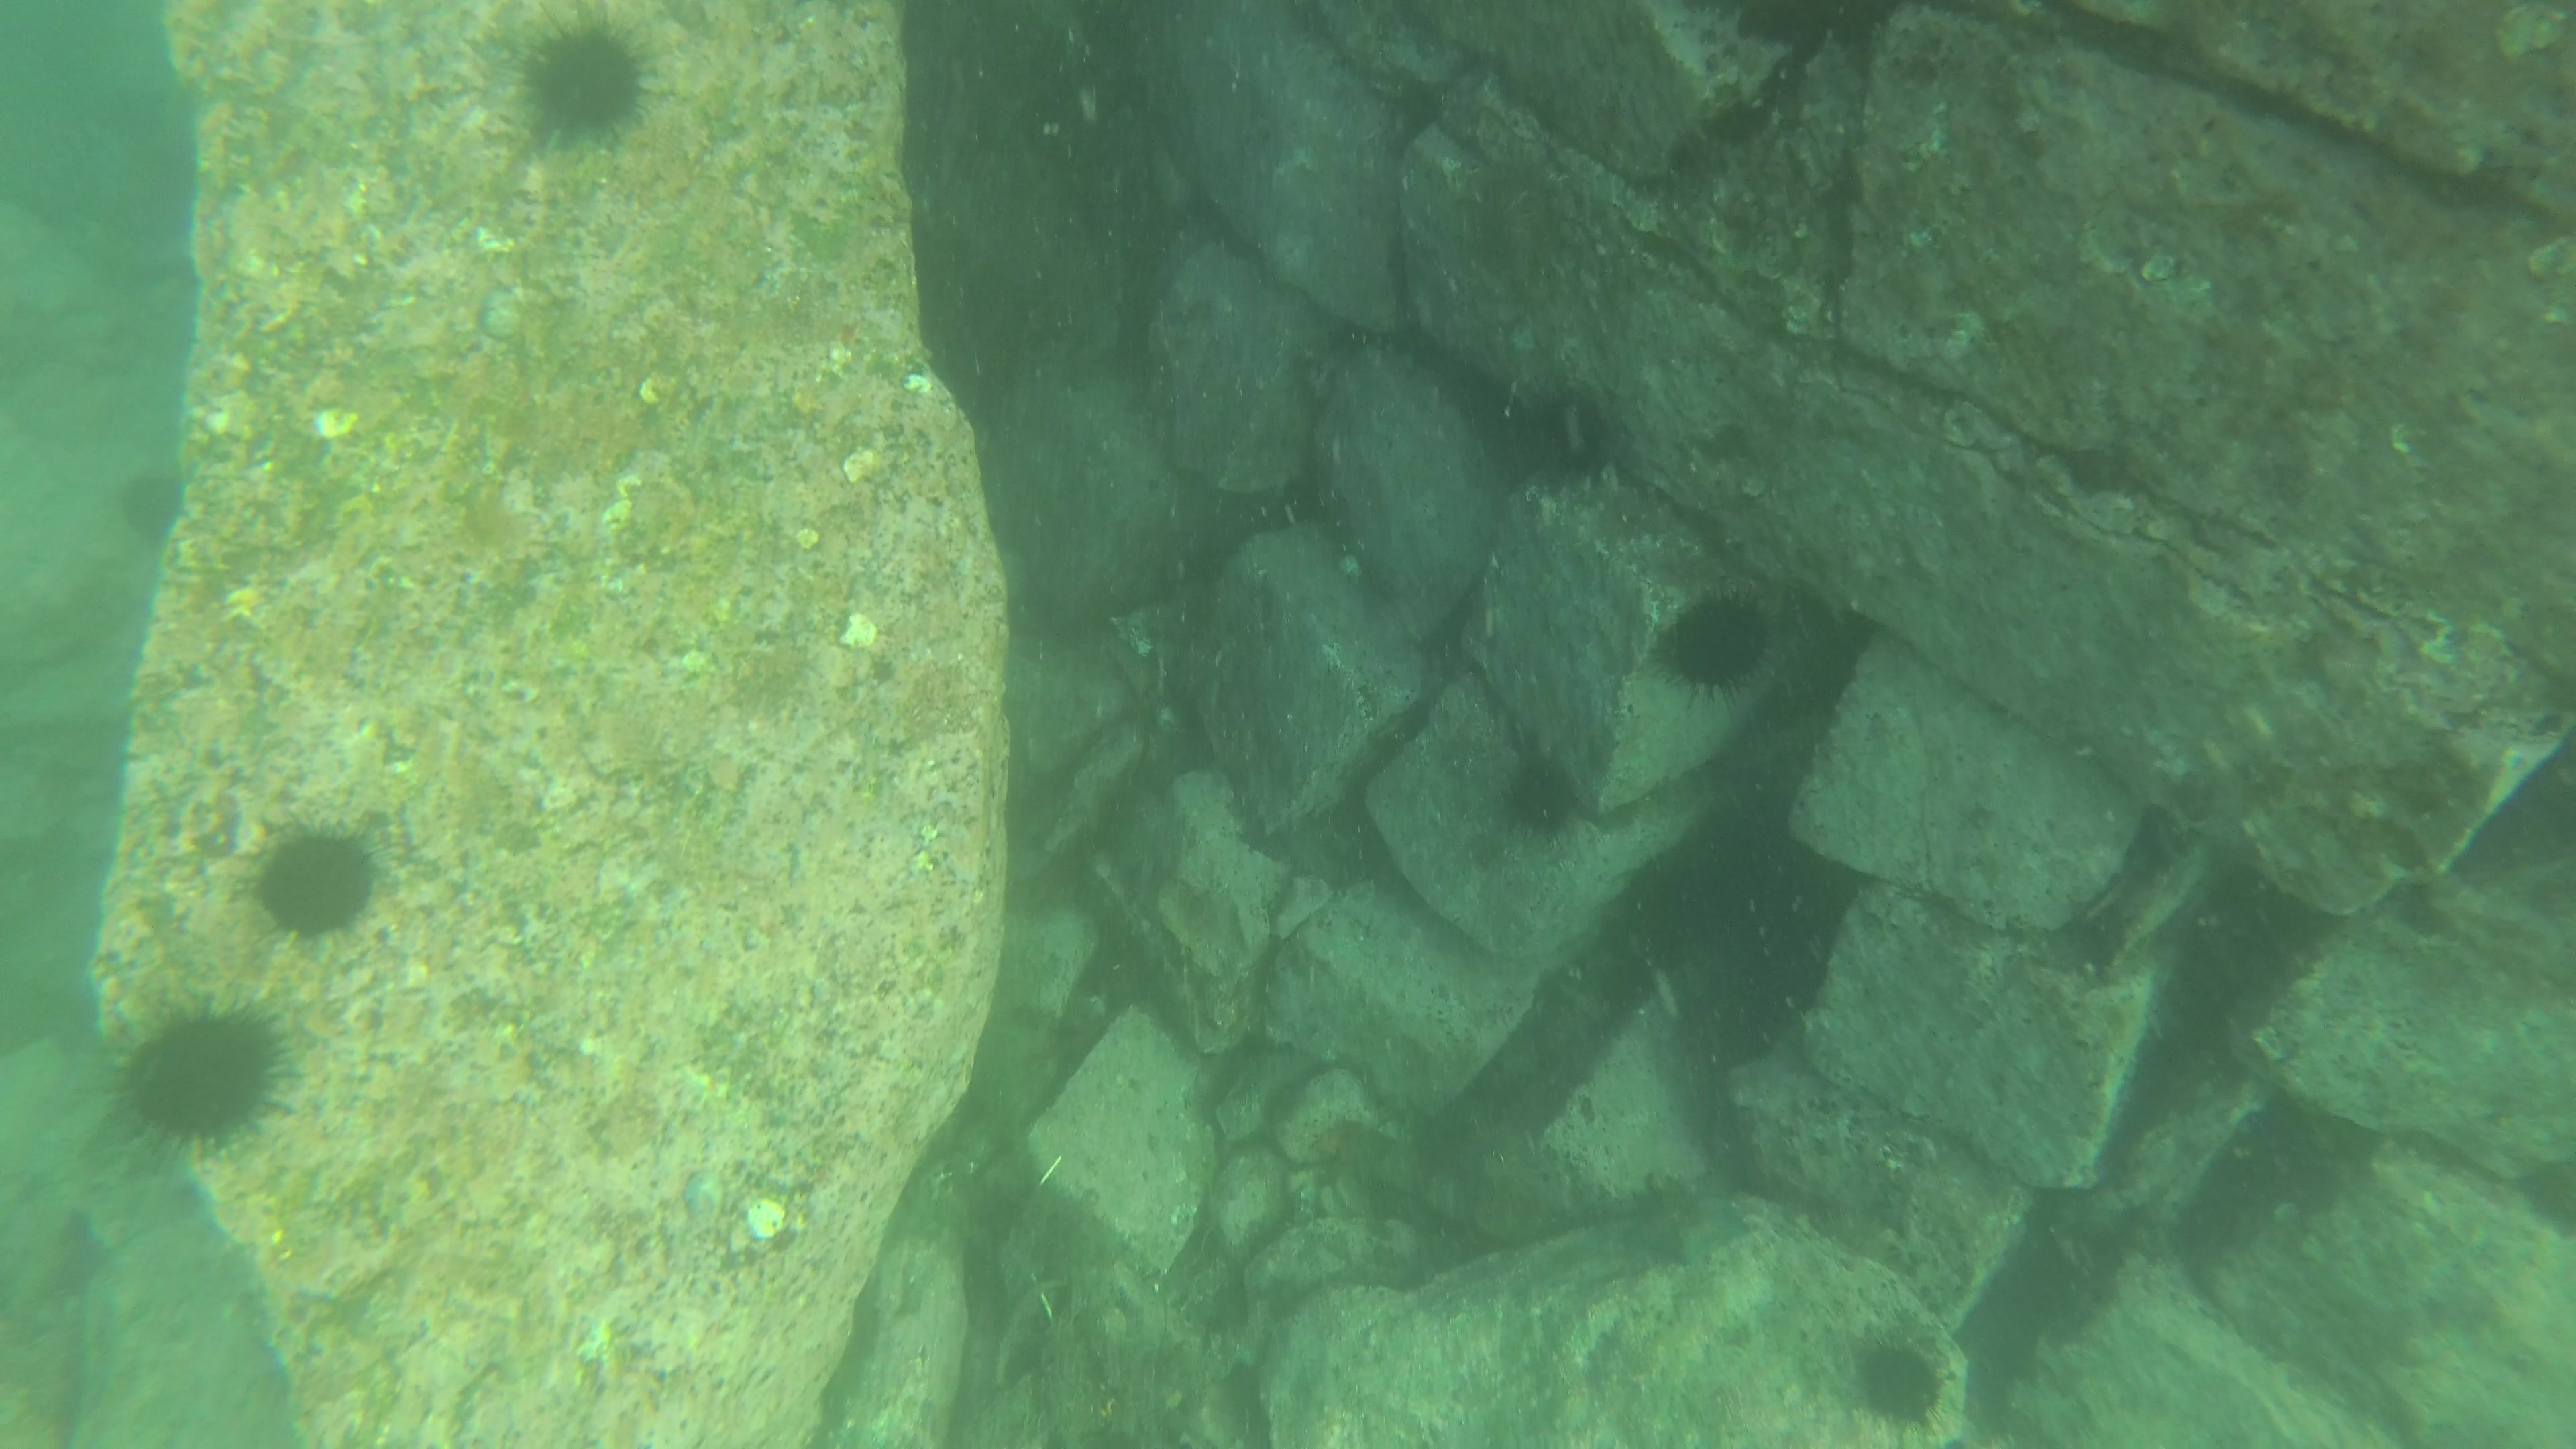echinus: (110, 993, 297, 1155), (508, 9, 665, 156), (244, 816, 387, 947), (1483, 370, 1628, 494), (1652, 584, 1778, 697), (1842, 1329, 1951, 1433), (1491, 747, 1591, 844), (108, 460, 191, 550), (1456, 1120, 1543, 1201), (2511, 1143, 2576, 1240)
starfish: (1635, 1166, 1744, 1263)
